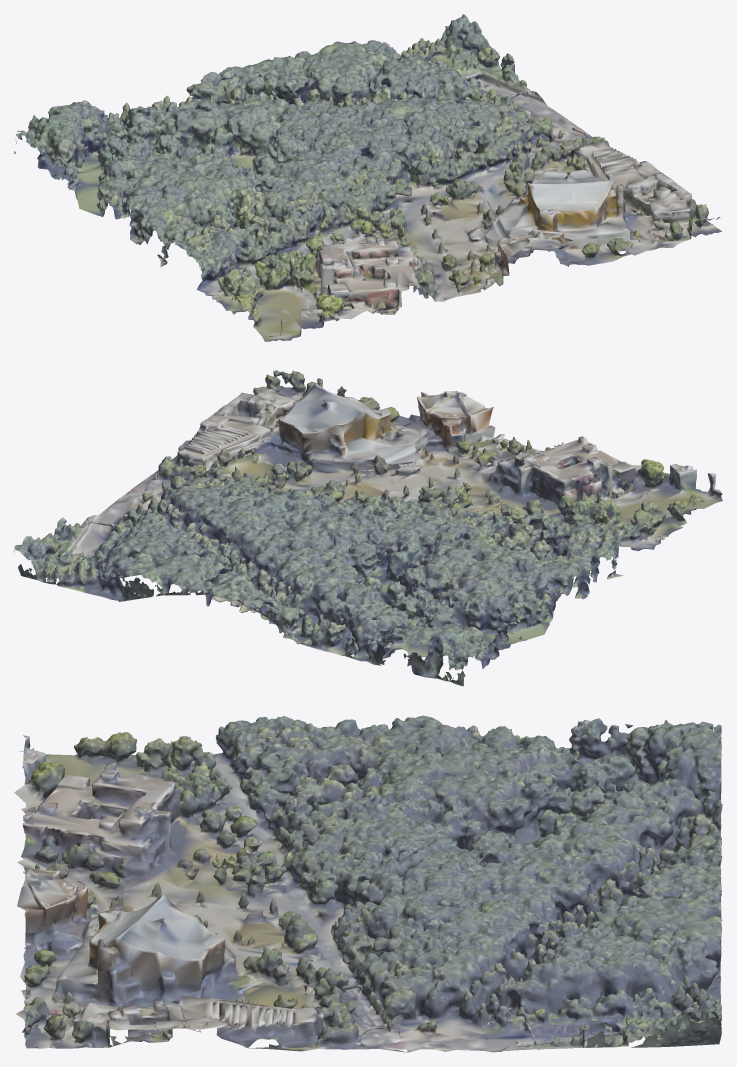
File: surface-detail-3890_58189.glb
3 views of the same model, one above another, from view 1: azimuth 30°, elevation 25°; view 2: azimuth 150°, elevation 25°; view 3: azimuth 270°, elevation 25° (orthographic). The views are drawn at different scales.
Visible parts, largest first — view 1: world; view 2: world; view 3: world.
Boxes of the visible parts, x1=… form: world: x1=14, y1=14, x2=722, y2=341; world: x1=14, y1=370, x2=722, y2=686; world: x1=14, y1=715, x2=722, y2=1052.
Size of the model in its own units: 368 by 42.47 by 368.
